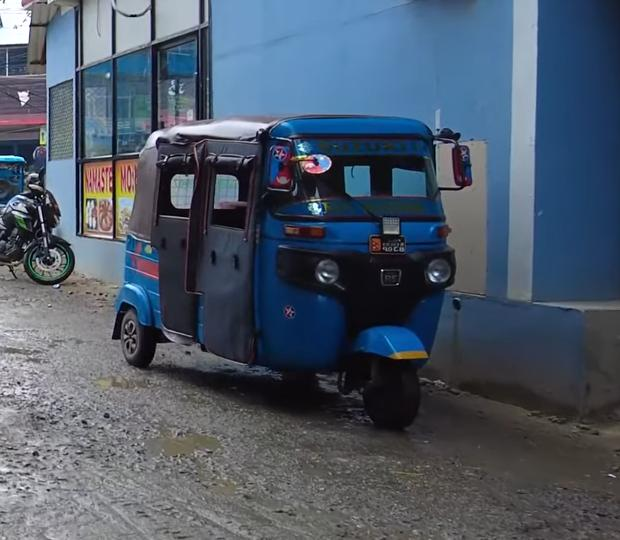auto_rickshaw: (111, 111, 472, 438)
